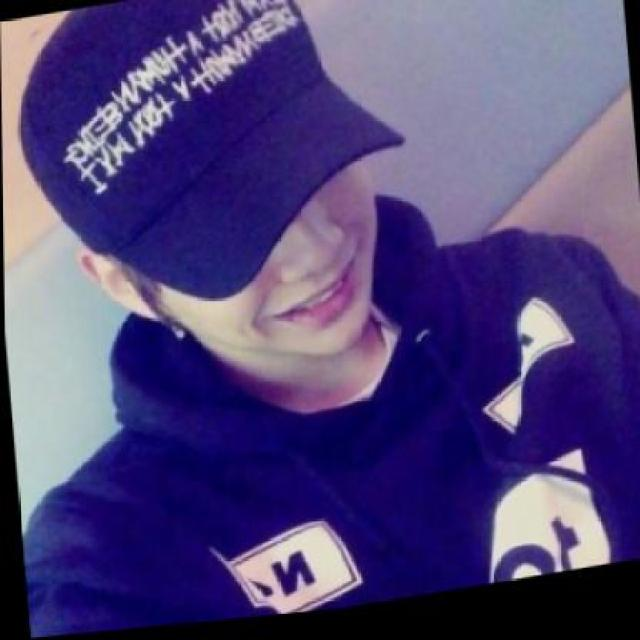hat: (5, 0, 412, 329)
